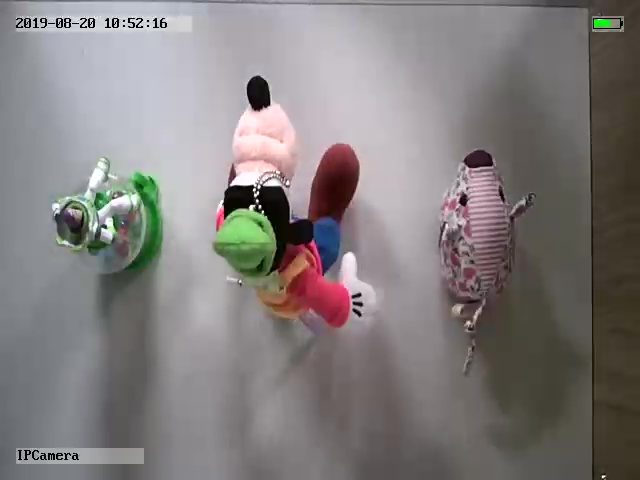buzz: (50, 156, 165, 273)
goofy: (211, 74, 380, 334)
pig: (438, 150, 535, 376)
